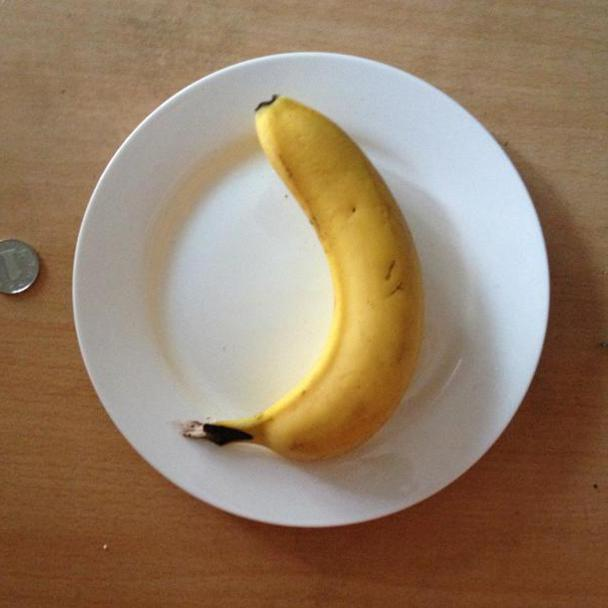banana: (233, 93, 433, 459)
